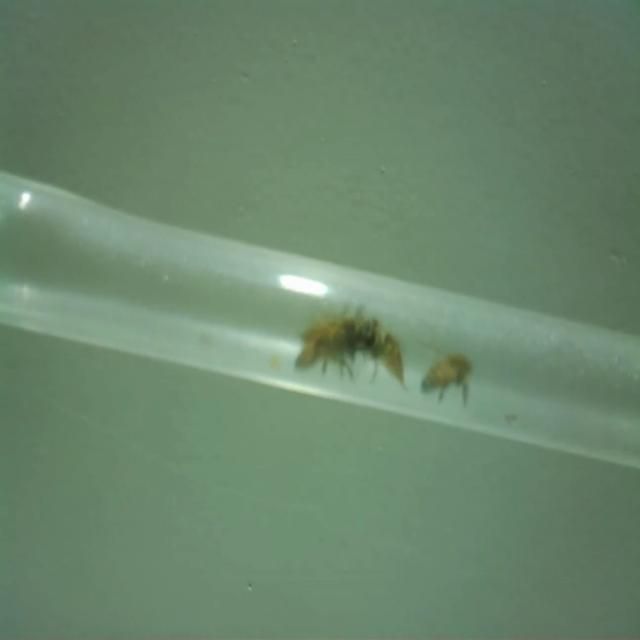Honeybee-Detection: (420, 346, 477, 410), (295, 318, 353, 379), (361, 319, 403, 385)
